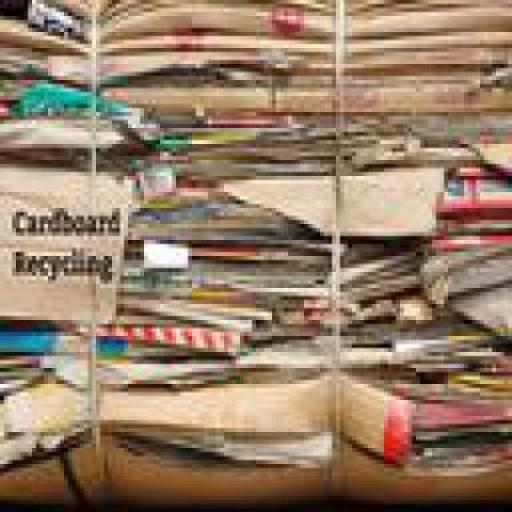cardboard: (0, 0, 508, 508), (0, 376, 508, 507), (0, 431, 508, 508), (0, 11, 508, 72), (0, 164, 128, 324), (116, 236, 328, 332), (324, 368, 508, 468), (100, 76, 508, 120), (24, 0, 508, 32), (0, 327, 228, 384), (220, 168, 436, 228), (136, 108, 508, 140), (156, 120, 416, 164), (416, 244, 508, 344), (0, 112, 153, 172), (232, 332, 508, 364), (416, 160, 508, 249), (124, 184, 304, 228), (119, 148, 208, 208), (324, 244, 412, 300), (328, 292, 440, 332), (16, 80, 132, 116), (472, 136, 508, 168), (408, 144, 472, 160)
